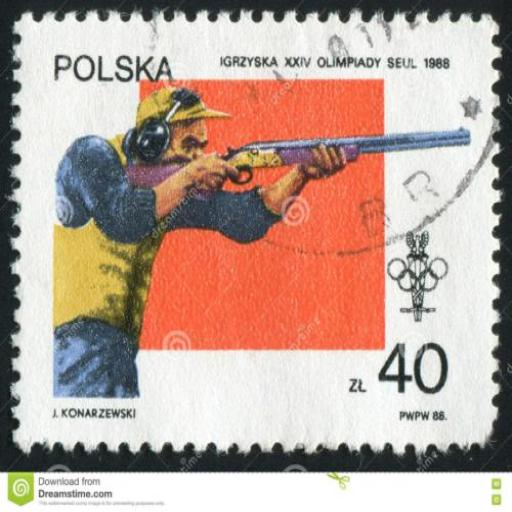shooting: (52, 84, 360, 400)
